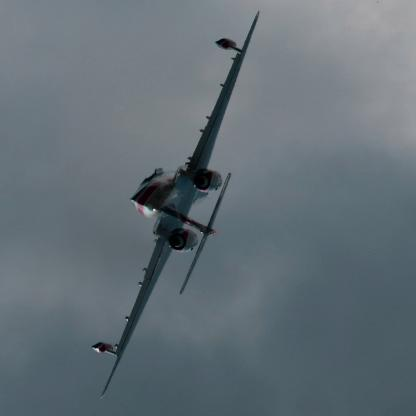B52: (91, 12, 259, 400)
